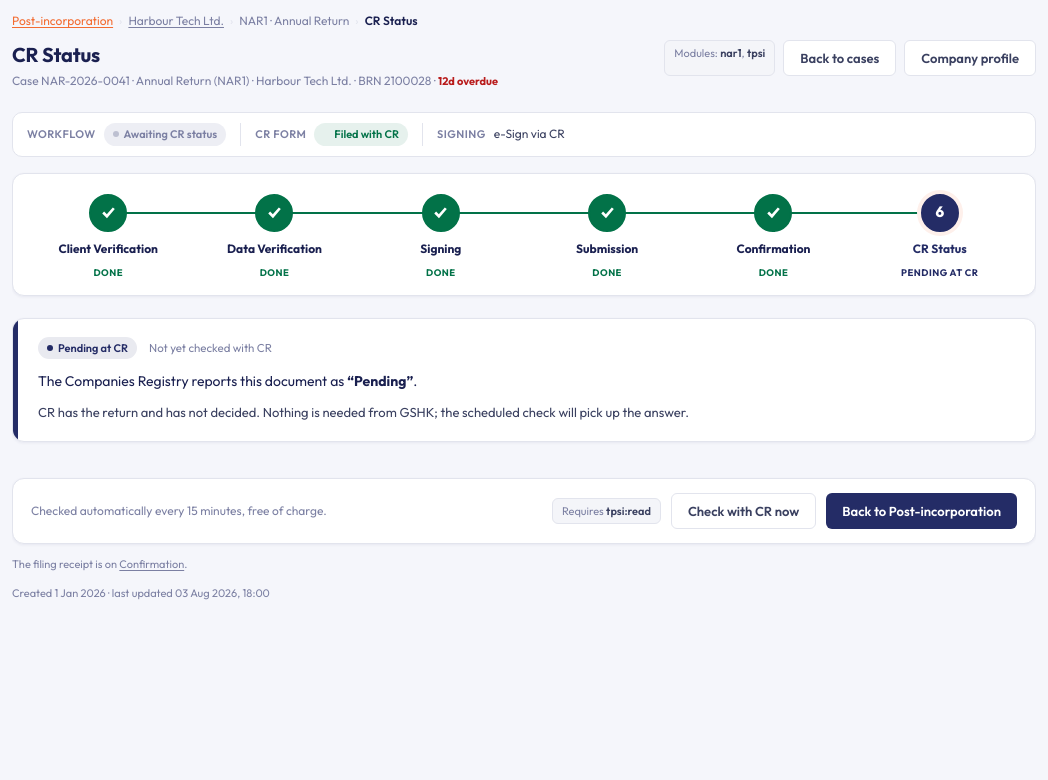
Test case: CaseWorkflowPage — CR Status › reports a CR outage in the page banner, at the top
Expected: the text "NAR-2026-0041" is shown, [41,73,130,88]
Click the button "Check with CR now" at (744,511), box [671,493,816,529]
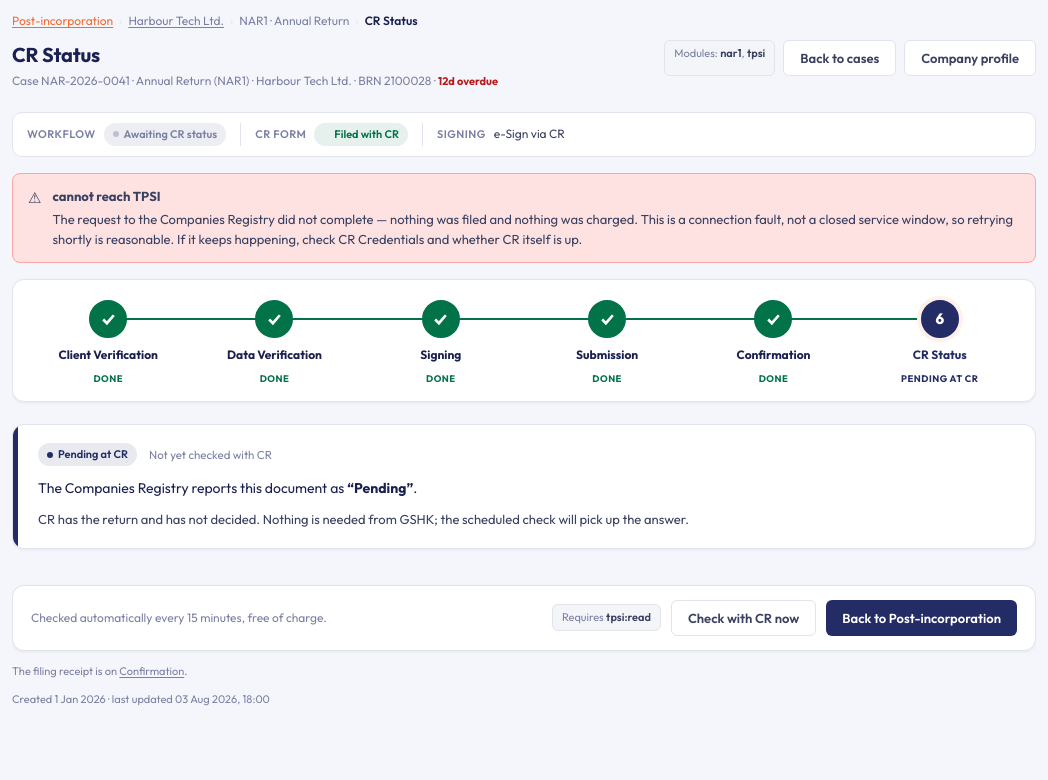
Now the message shows "cannot reach TPSI", box [52,188,161,204]
